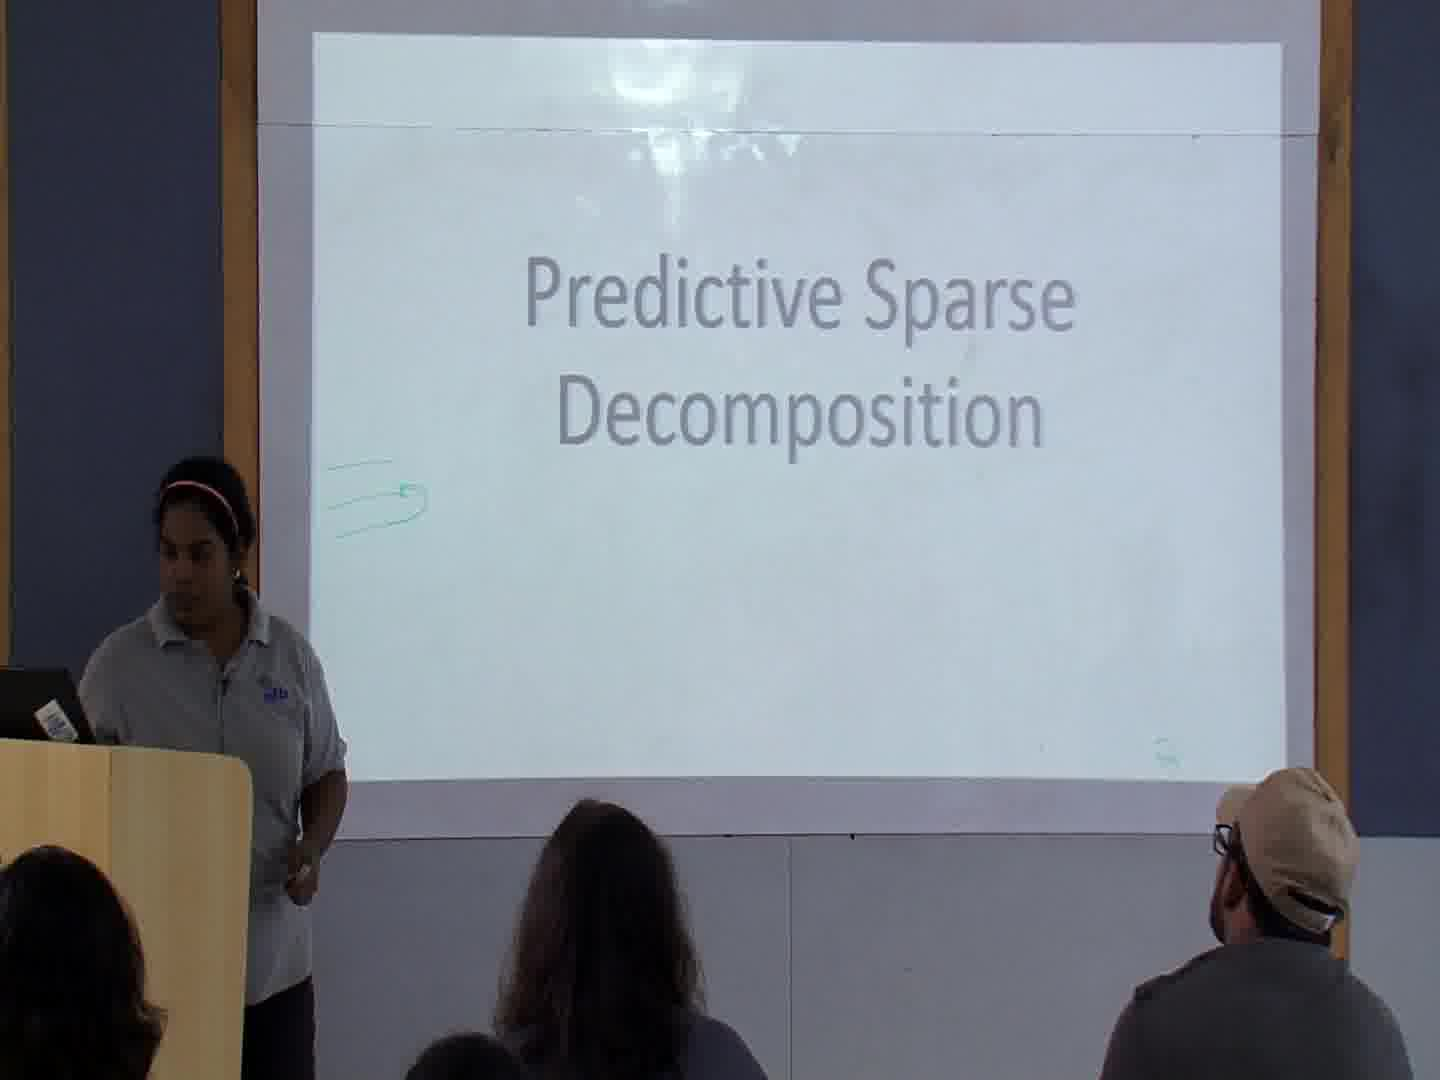slide: (311, 34, 1284, 782)
